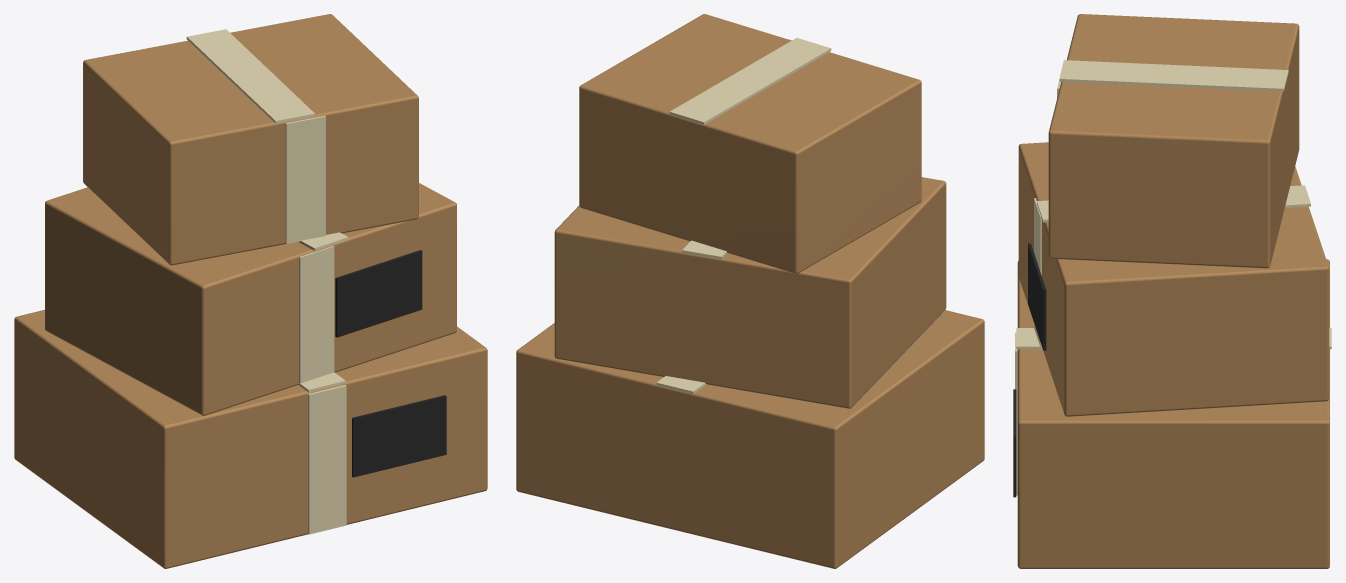
Rendered from BoxStack.fbx.
The picture shows the model from 3 angles, left to right: view 1: azimuth 30°, elevation 25°; view 2: azimuth 150°, elevation 25°; view 3: azimuth 270°, elevation 25°; orthographic projection. The views are drawn at different scales.
Parts seen in each view (by area): view 1: BoxStack; view 2: BoxStack; view 3: BoxStack.
Boxes of the visible parts, <box> form: BoxStack: <box>14,14,487,568</box>; BoxStack: <box>516,14,984,568</box>; BoxStack: <box>1013,14,1331,568</box>.
Bounding box in the file's own units: 0.052 × 0.0614 × 0.0428.
